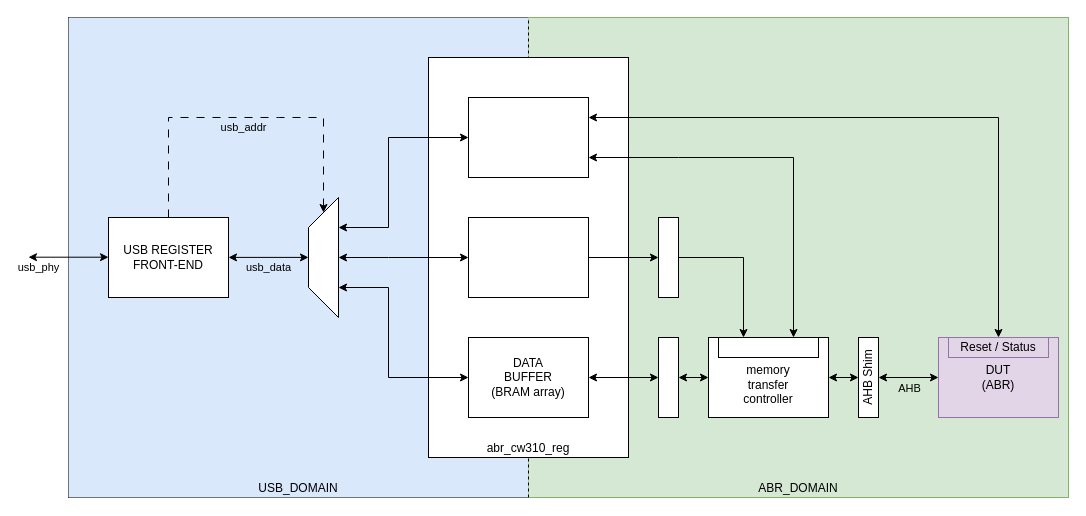
Some shapes in this 1086 by 516 pixel diagram are drawn without their labels. The shapes that lost their labels are listed below. From the top down, each one's centre as x and y in pixels, then its label:
At point (528, 137): "DUT CTRL + DUT STATUS Registers".
At point (528, 257): "ABR INSTR Reg".
At point (668, 257): "Decode".
At point (768, 347): "Controls + Status".
At point (668, 377): "BRAM Shim".
